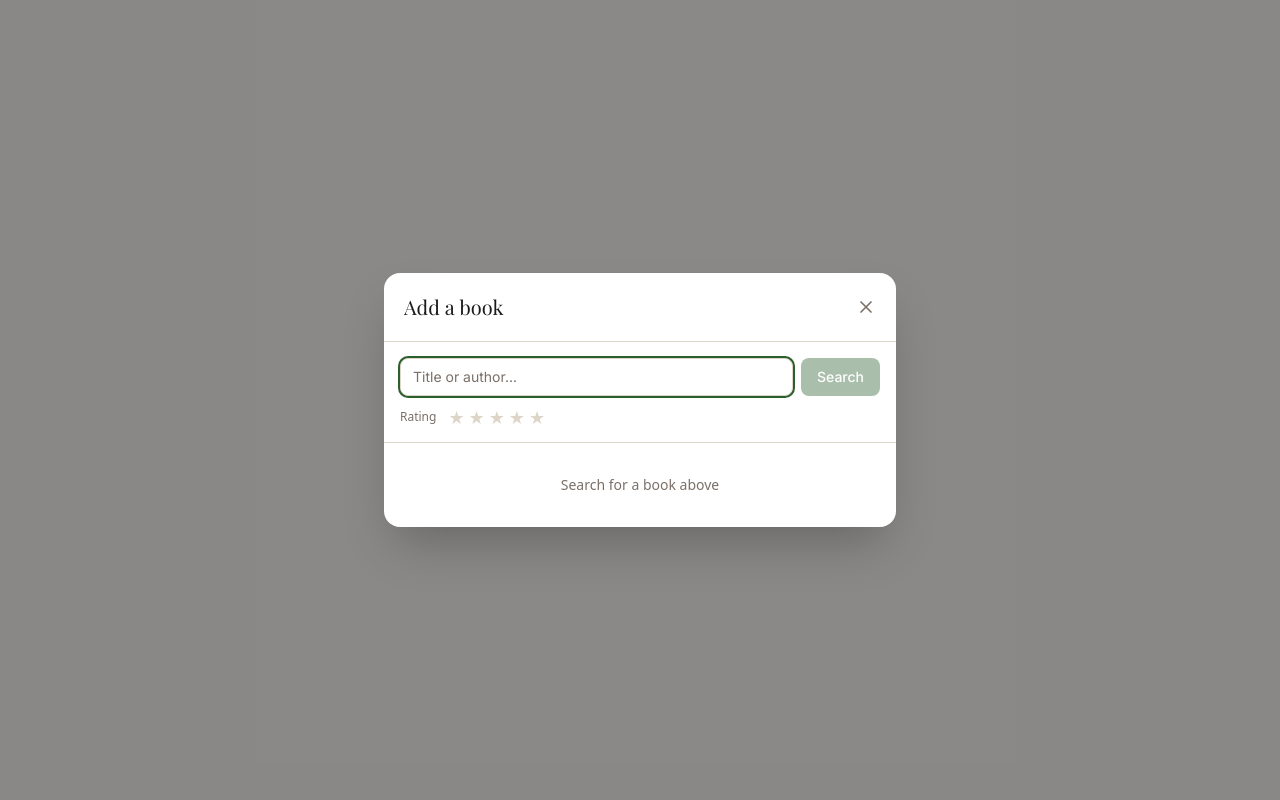
AddBookModal › surfaces an error and does not close when the write fails
Type "dune" into the field with placeholder "Title or author..." at (596, 377), box [400, 358, 793, 396]
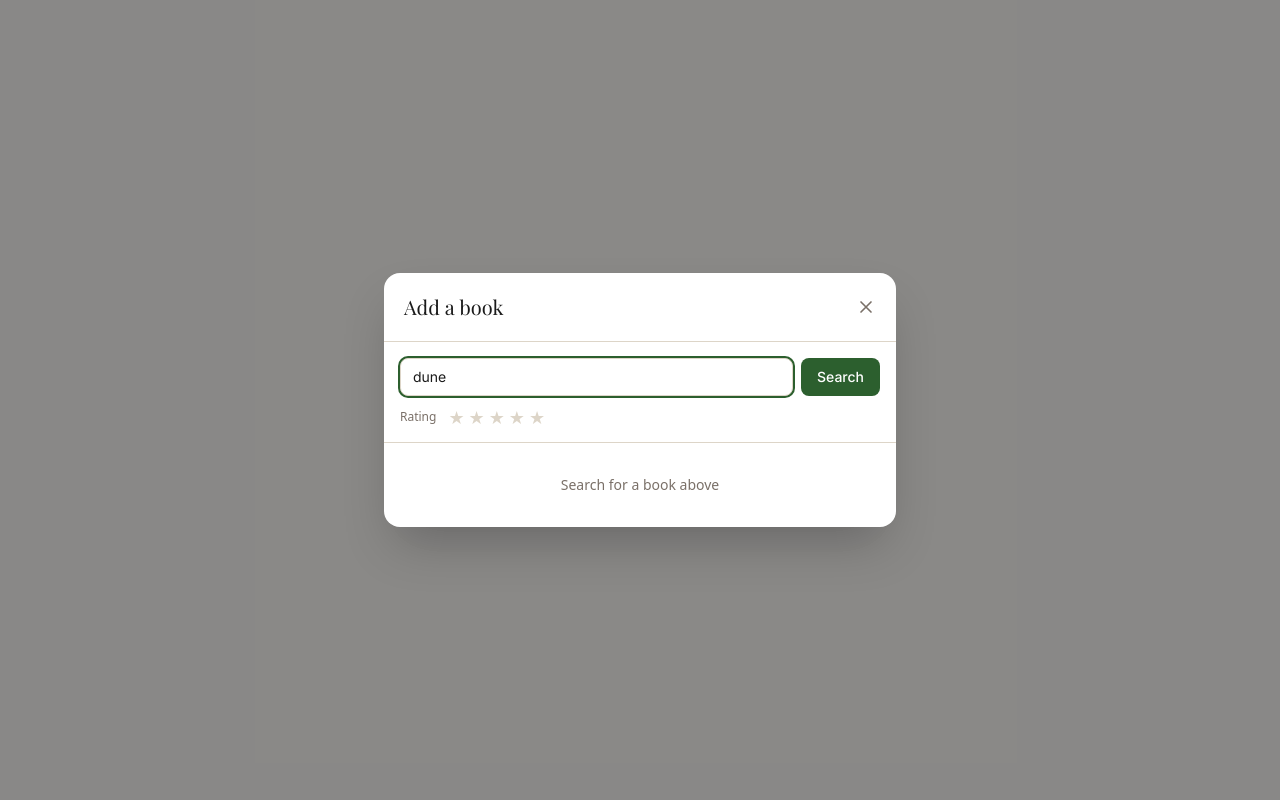
Click the button "Search" at (840, 377), box [801, 358, 880, 396]
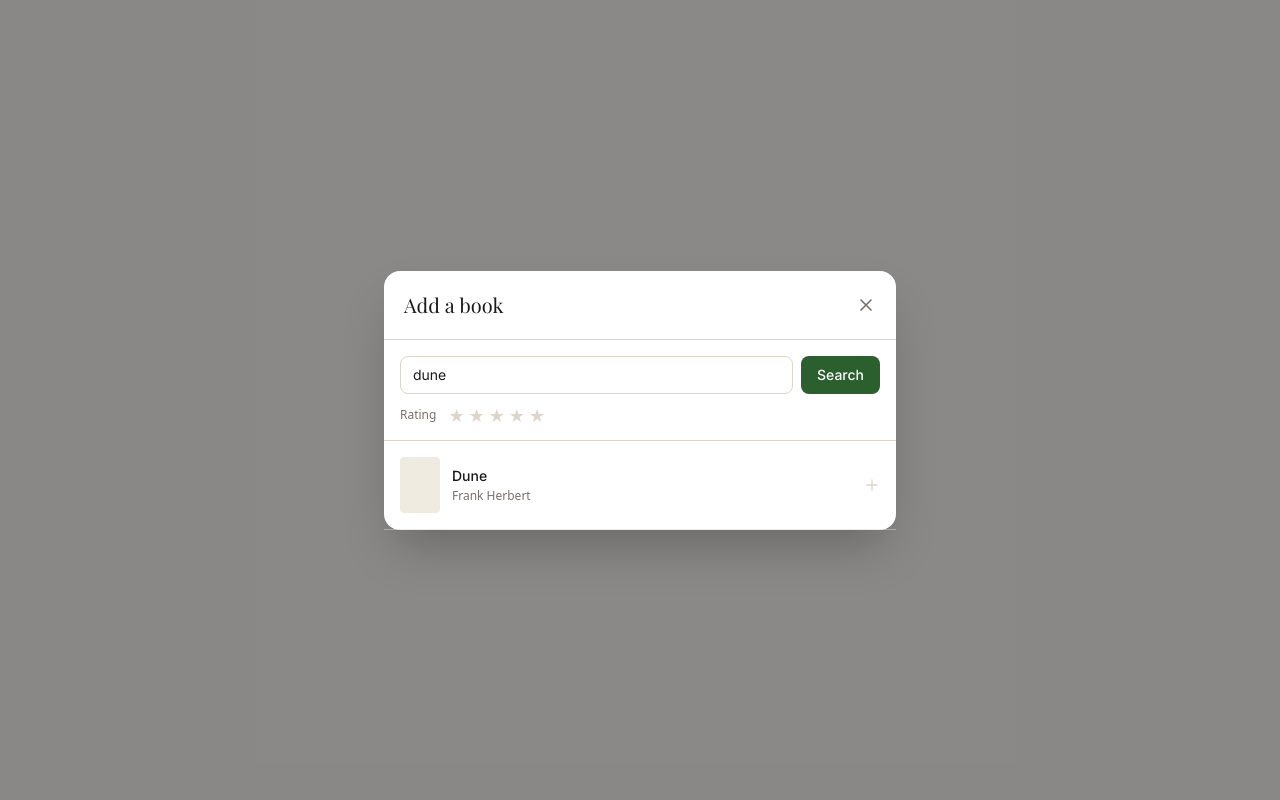
Click the button "Dune Frank Herbert" at (420, 484), box [384, 440, 896, 530]
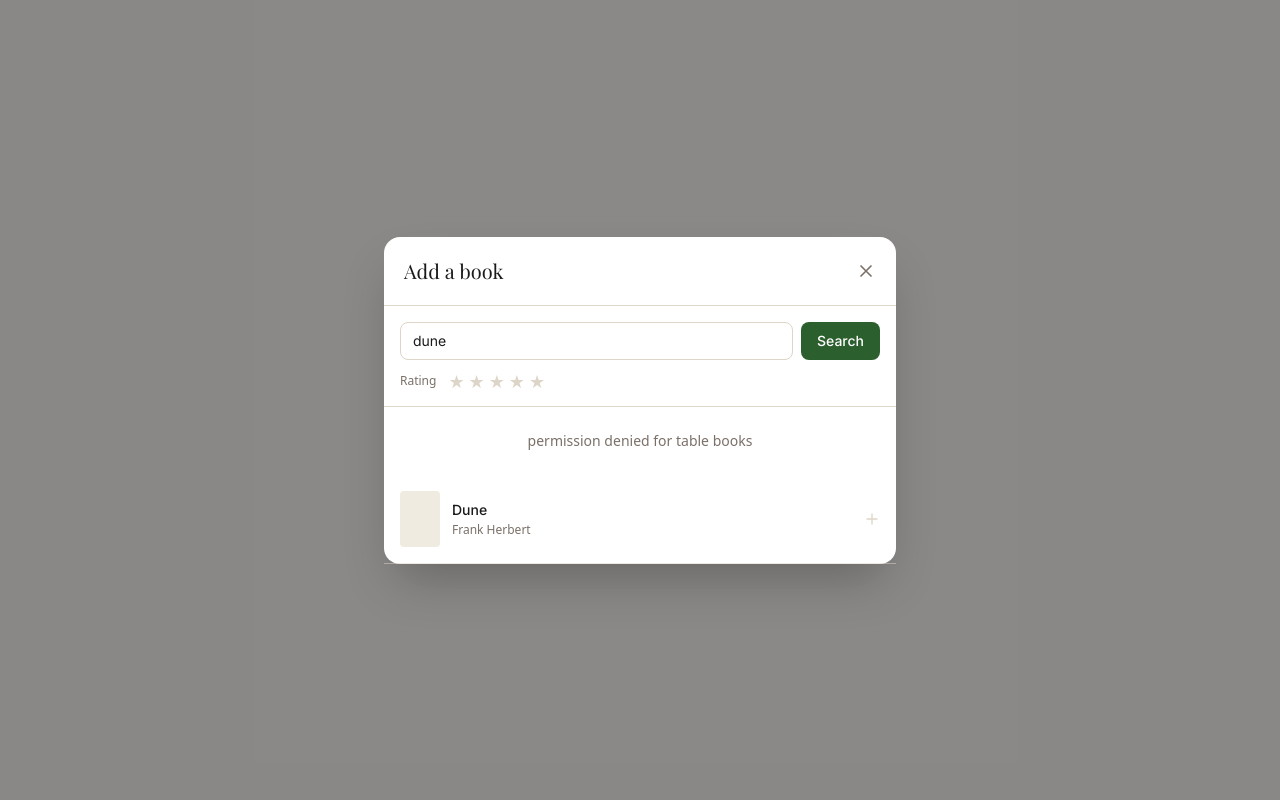
Expected: the text "permission denied for table books" is shown, [528, 430, 752, 450]
